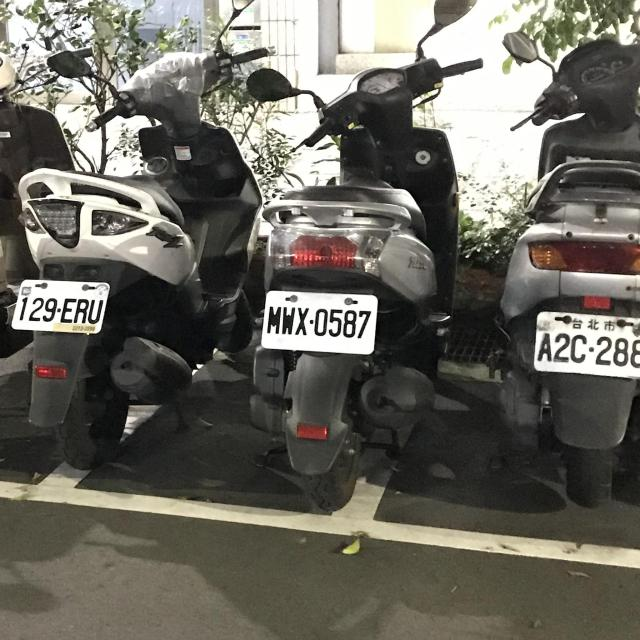W: (257, 286, 385, 358), (527, 304, 640, 383), (8, 270, 114, 338)
